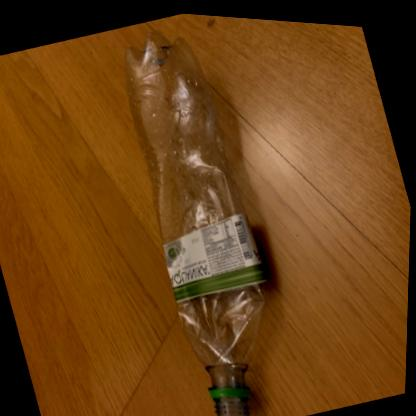Plastic: (125, 27, 268, 416)
